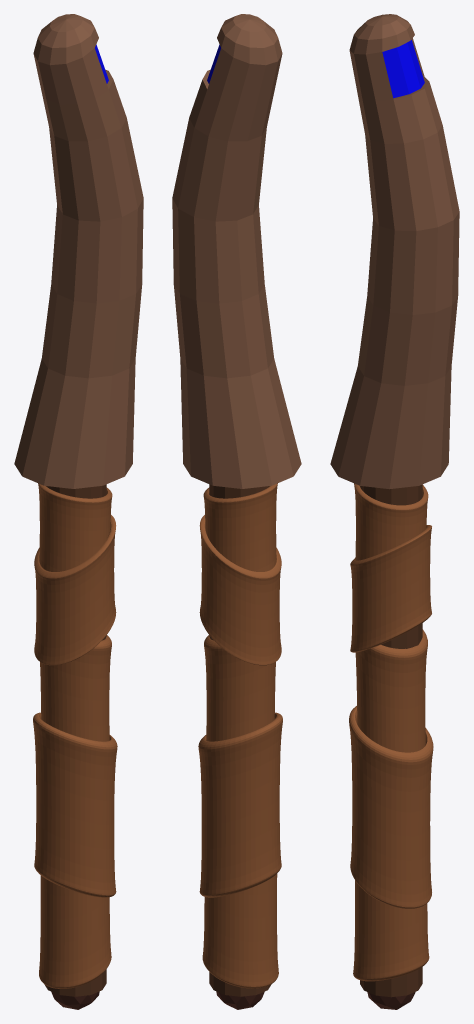
The model's file is Wand 340.glb.
3 renders of one model, left to right at view 1: azimuth 30°, elevation 25°; view 2: azimuth 150°, elevation 25°; view 3: azimuth 330°, elevation 25°, orthographic.
Visible parts, largest first — view 1: GeneratedWand; view 2: GeneratedWand; view 3: GeneratedWand.
Part boxes in pixels (x1=…): GeneratedWand: x1=14, y1=14, x2=143, y2=1009; GeneratedWand: x1=172, y1=14, x2=301, y2=1009; GeneratedWand: x1=330, y1=14, x2=459, y2=1009.
Size of the model in its own units: 0.0644 by 0.5269 by 0.0572.
